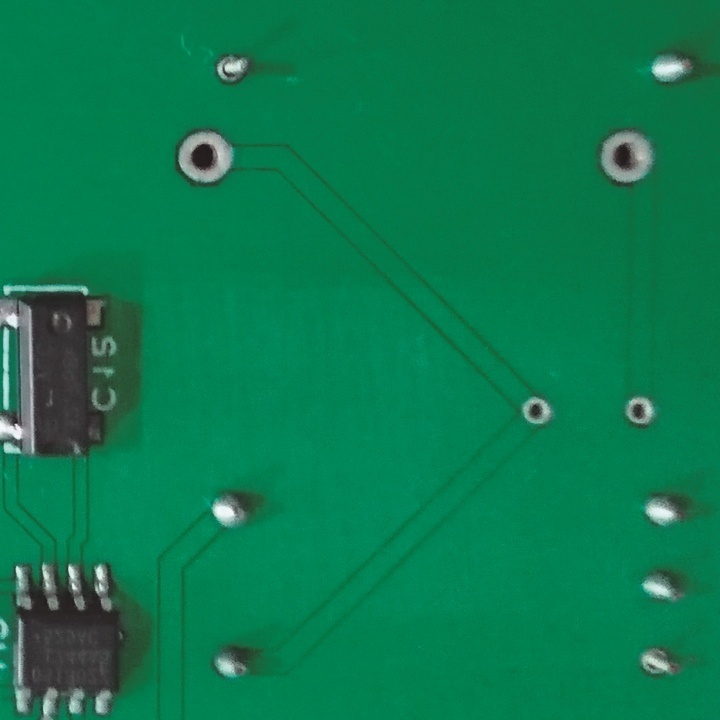F: (171, 130, 241, 191), (598, 125, 659, 195), (213, 49, 251, 89), (639, 643, 676, 683), (519, 395, 554, 429), (620, 395, 656, 428)
